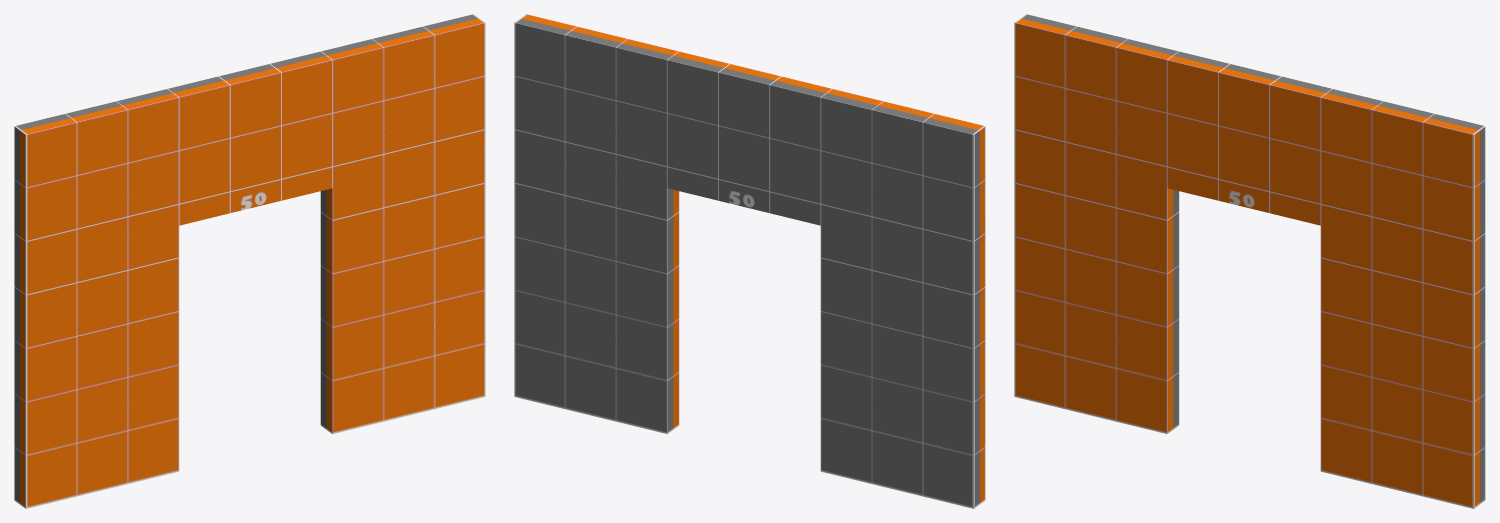
The model's file is M01WallDoorTypeA_1.FBX.
The picture shows the model from 3 angles, left to right: view 1: azimuth 30°, elevation 25°; view 2: azimuth 150°, elevation 25°; view 3: azimuth 330°, elevation 25°; orthographic projection.
Parts seen in each view (by area): view 1: M01WallDoorTypeA_1; view 2: M01WallDoorTypeA_1; view 3: M01WallDoorTypeA_1.
Boxes of the visible parts, x1,y1,x2,y2 form: M01WallDoorTypeA_1: (14, 14, 485, 508); M01WallDoorTypeA_1: (514, 14, 985, 508); M01WallDoorTypeA_1: (1014, 14, 1485, 508).
Size of what is drawn, in the model's own units: 4.5 by 3.5 by 0.2.
